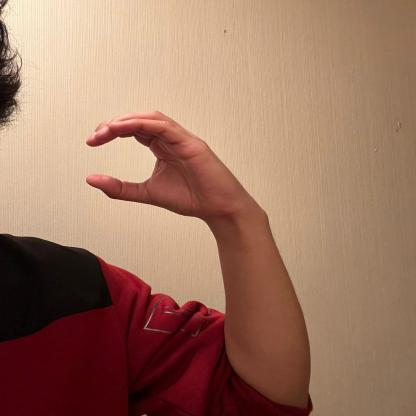C: (84, 106, 245, 222)
